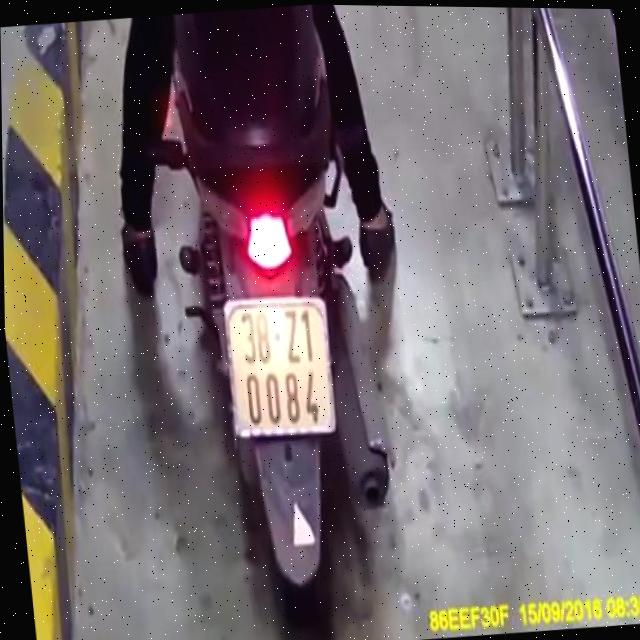motorcycle: (148, 22, 421, 640)
plate: (217, 290, 341, 449)
